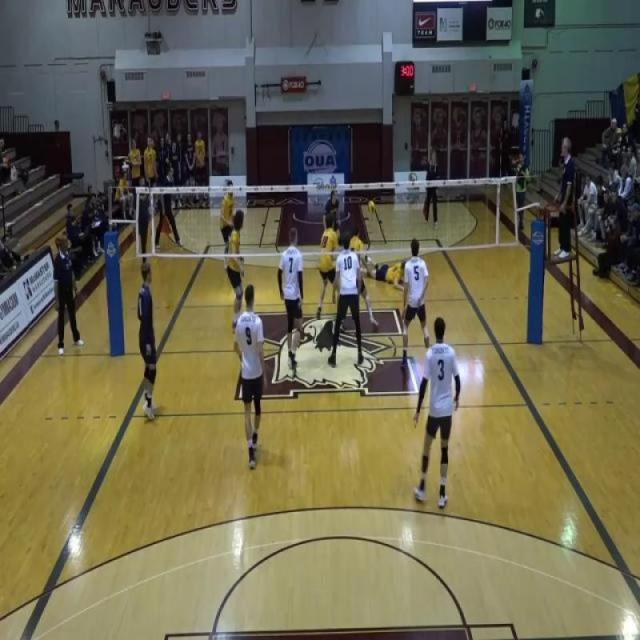volleyball: (367, 199, 376, 216)
